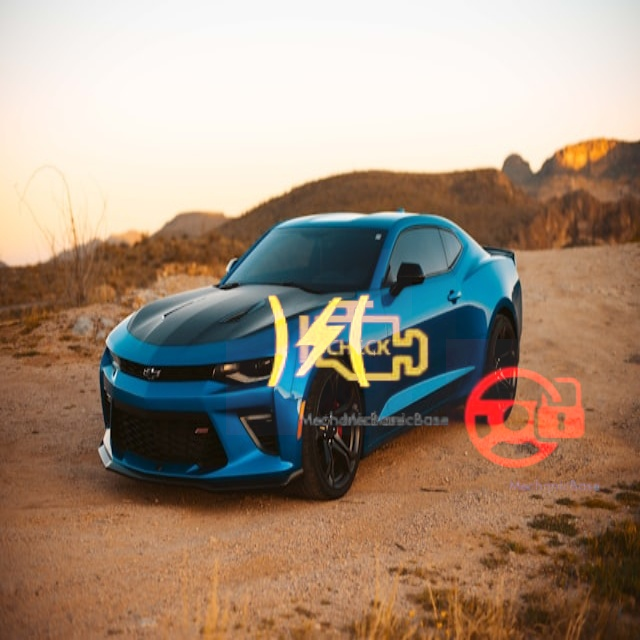symbol: (269, 248, 456, 435), (226, 249, 412, 435), (446, 339, 606, 499)
